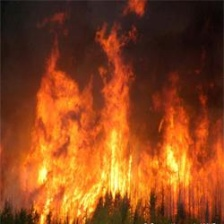fire: (23, 46, 224, 217)
